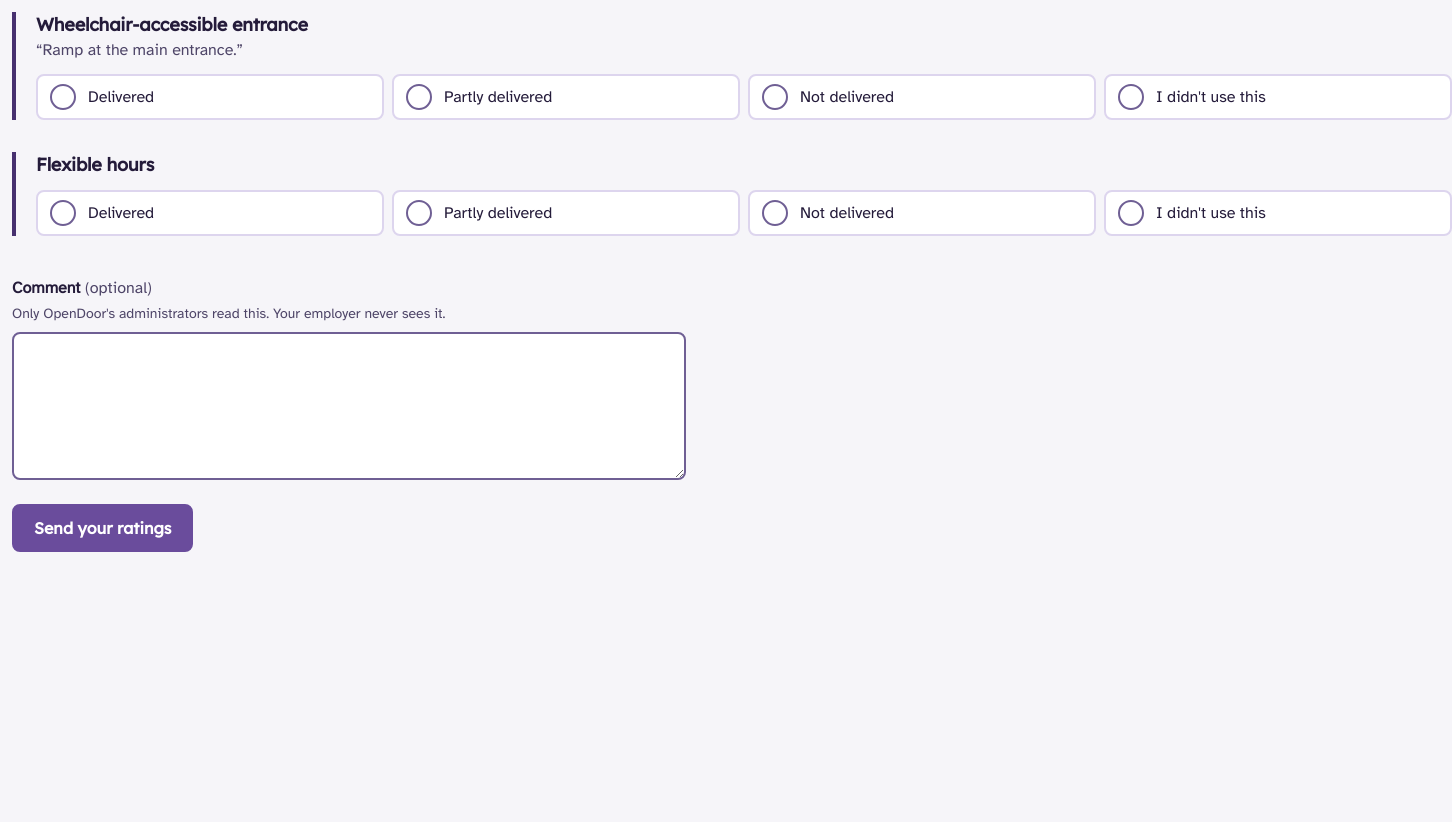
Test: FeedbackForm › needs at least one accommodation that was used
The image size is (1452, 822).
Step 1. Click the 1st radio button labelled "I didn't use this" → (1131, 97), box [1118,84,1144,110]
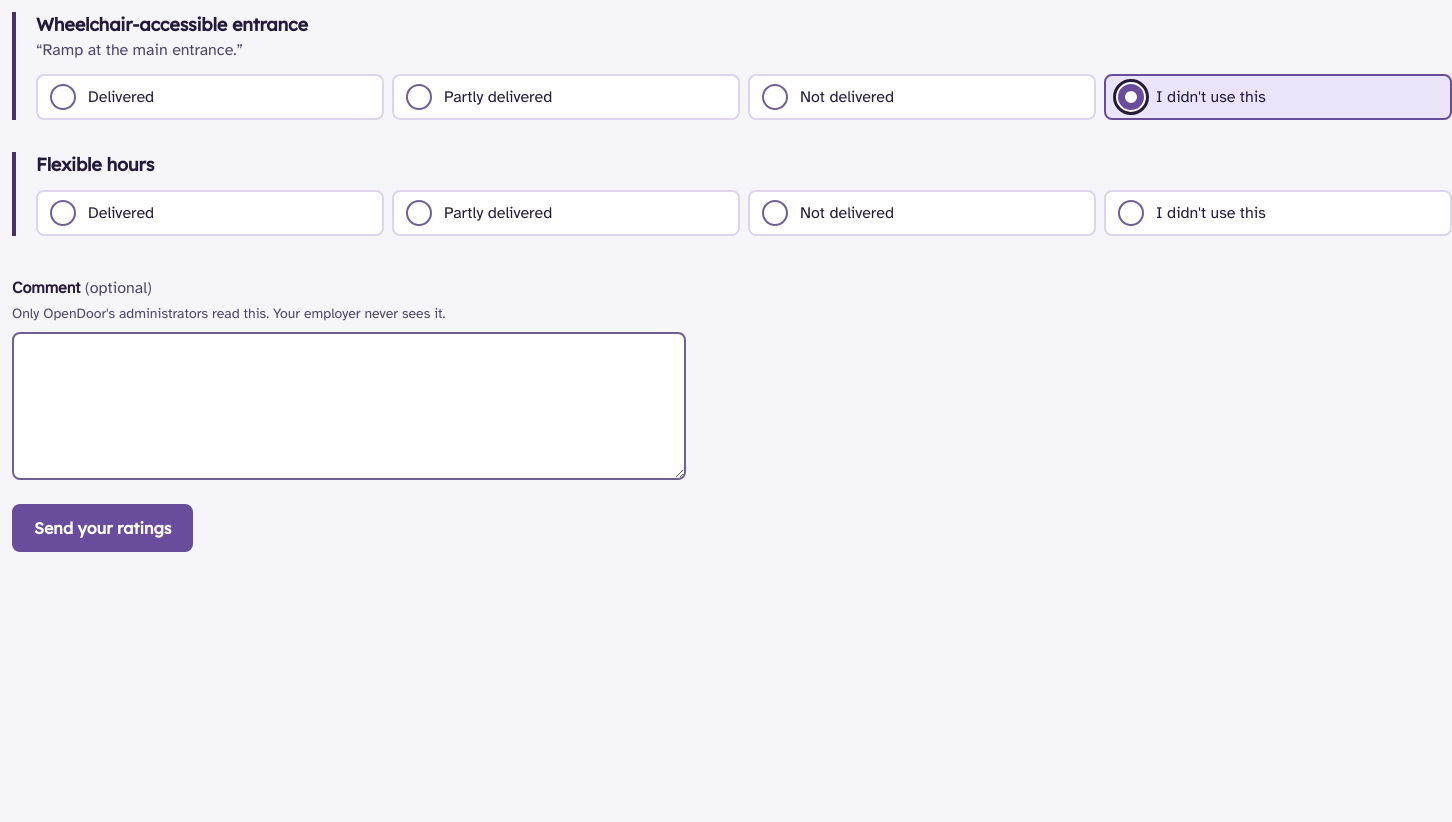
Step 2. Click the 2nd radio button labelled "I didn't use this" → (1131, 213), box [1118,200,1144,226]
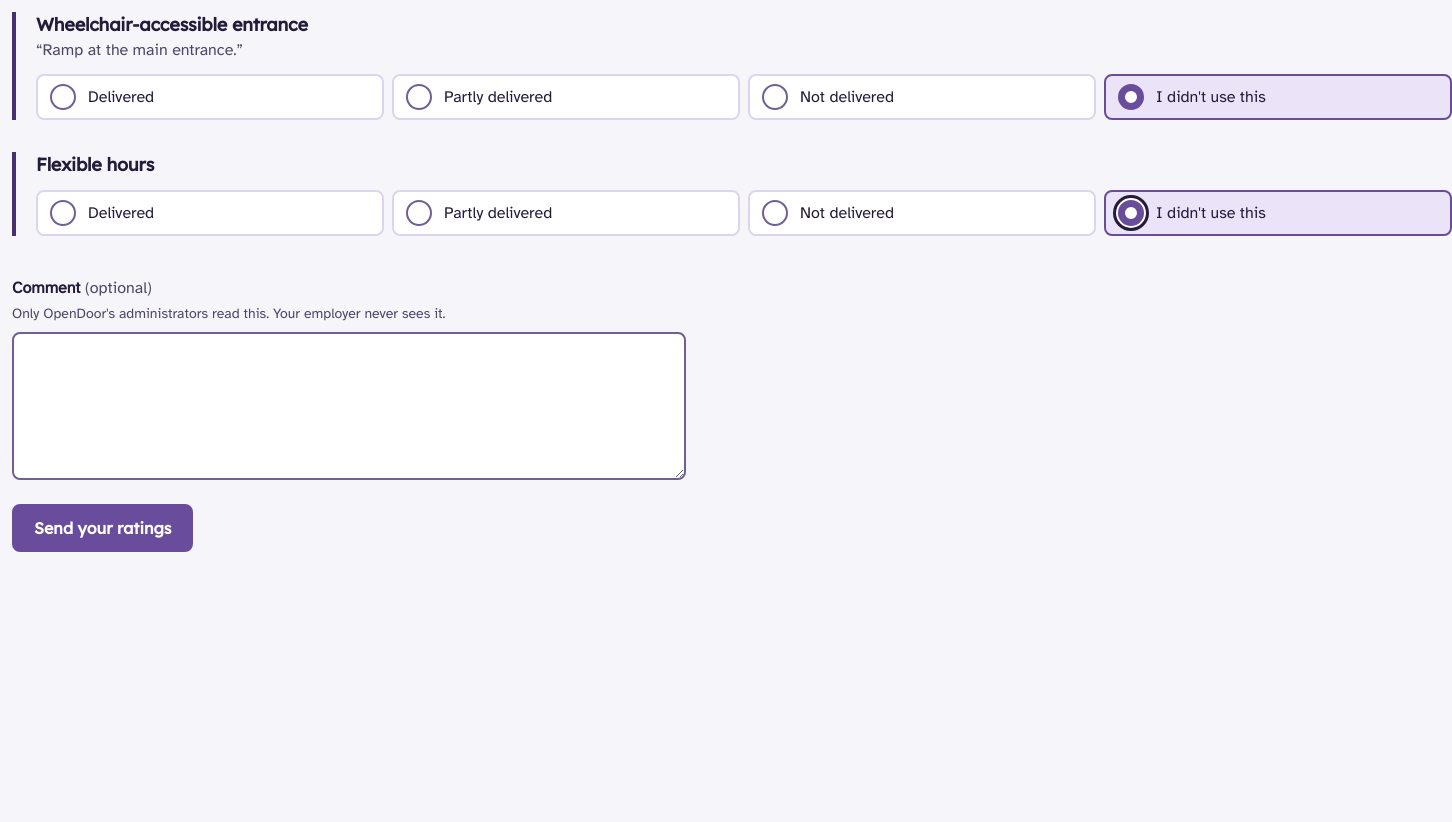
Step 3. Click the button "Send your ratings" → (103, 528), box [12,504,193,552]
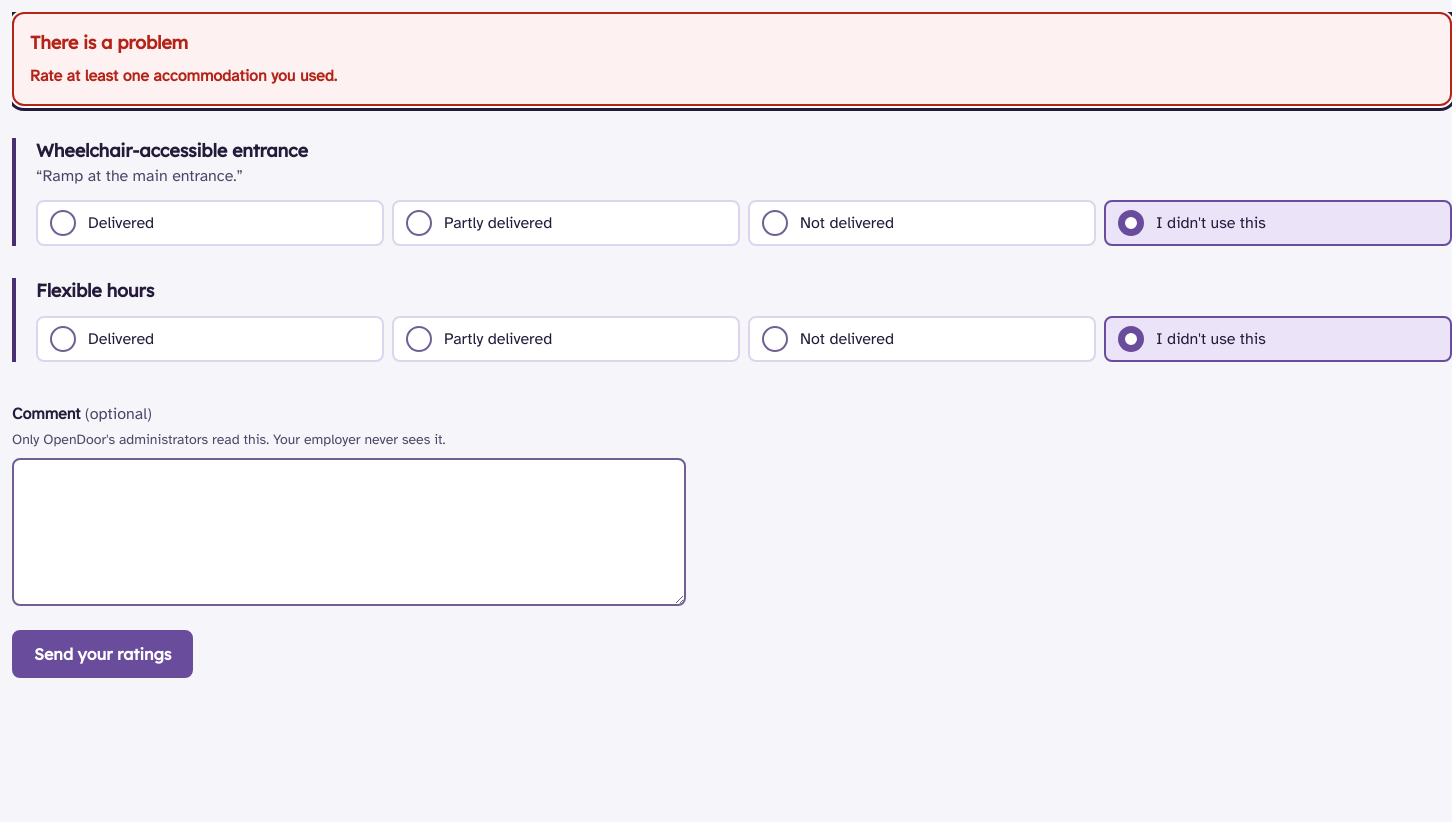
Check: the text "Rate at least one accommodation you used." is shown, box [30,66,337,86]
